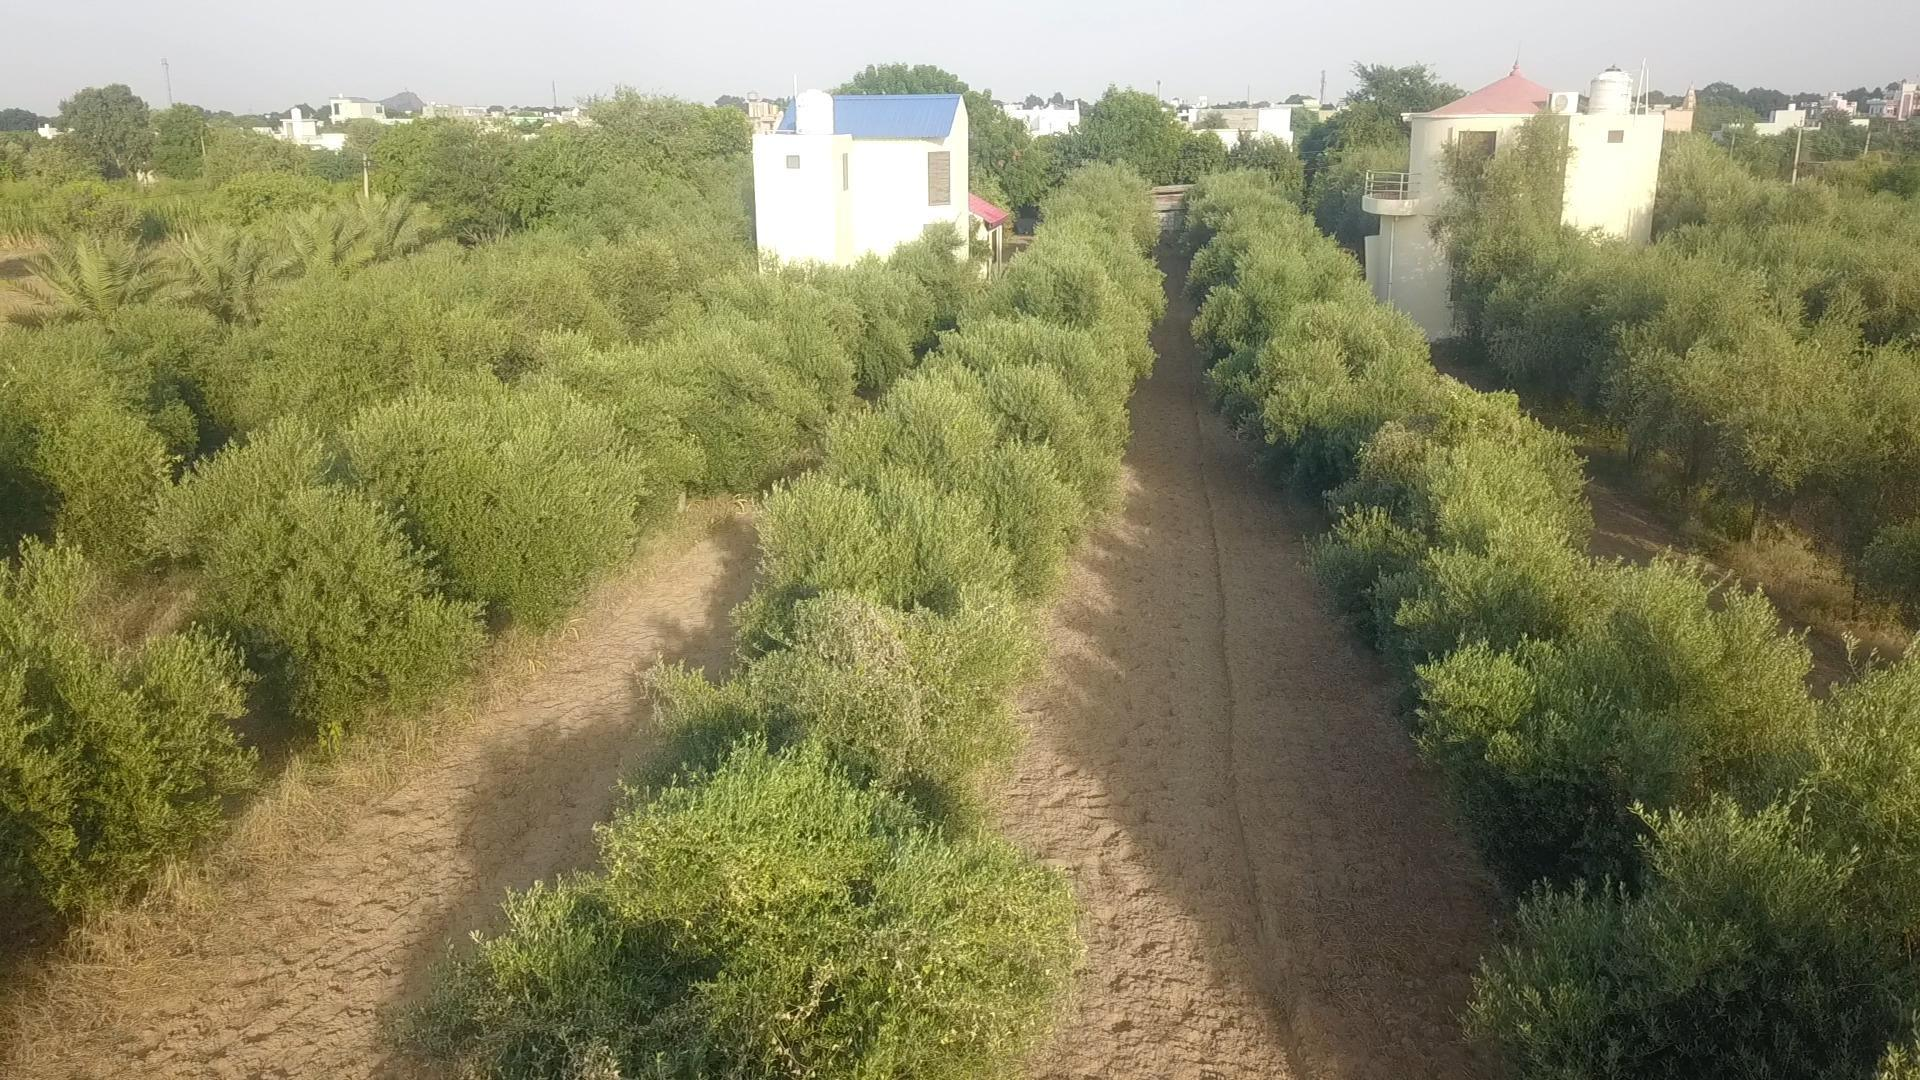canopy: (422, 165, 1166, 1076), (1188, 174, 1919, 1075), (0, 249, 975, 905)
road: (0, 513, 757, 1079), (993, 258, 1498, 1079), (1586, 476, 1905, 692)
